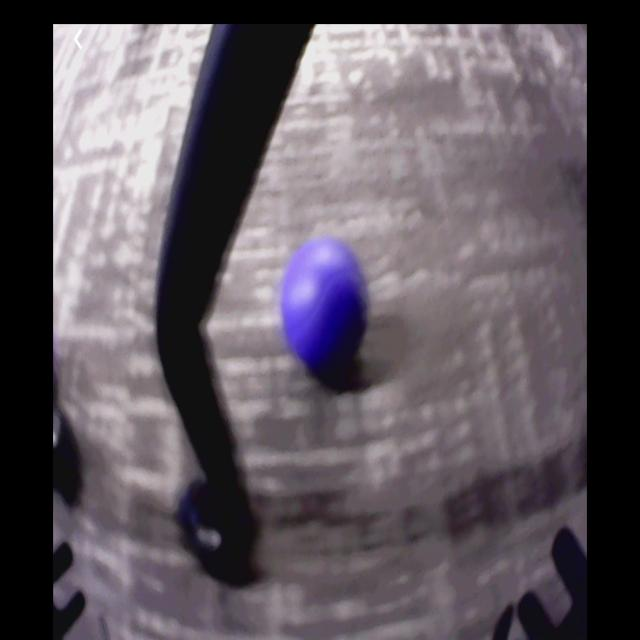ball: (287, 241, 371, 370)
